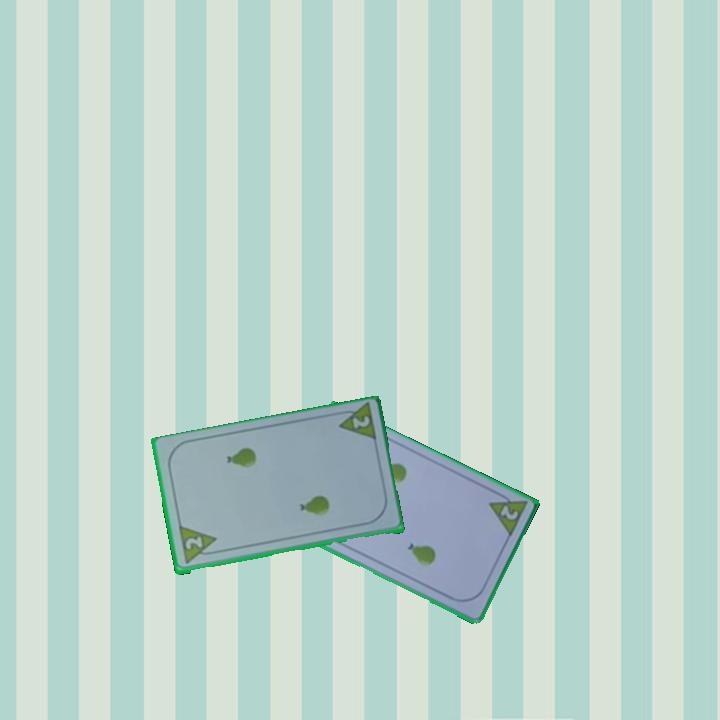2p: (484, 487, 529, 541), (175, 524, 221, 567), (348, 413, 373, 432)
